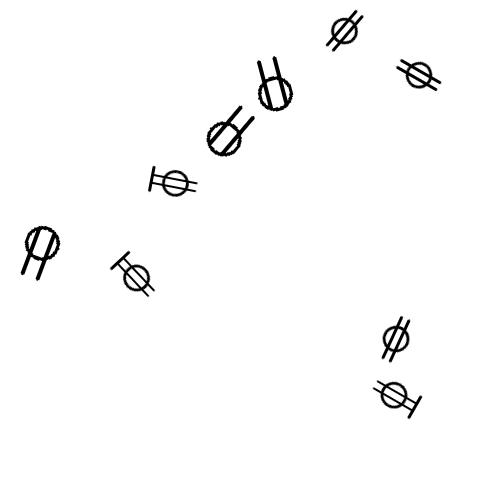Duplex-Receptacle: (244, 68, 303, 104), (10, 233, 69, 269), (200, 115, 259, 151), (369, 380, 421, 413), (110, 260, 162, 293), (148, 166, 200, 199), (370, 325, 423, 356), (318, 14, 371, 45), (391, 60, 444, 91)
